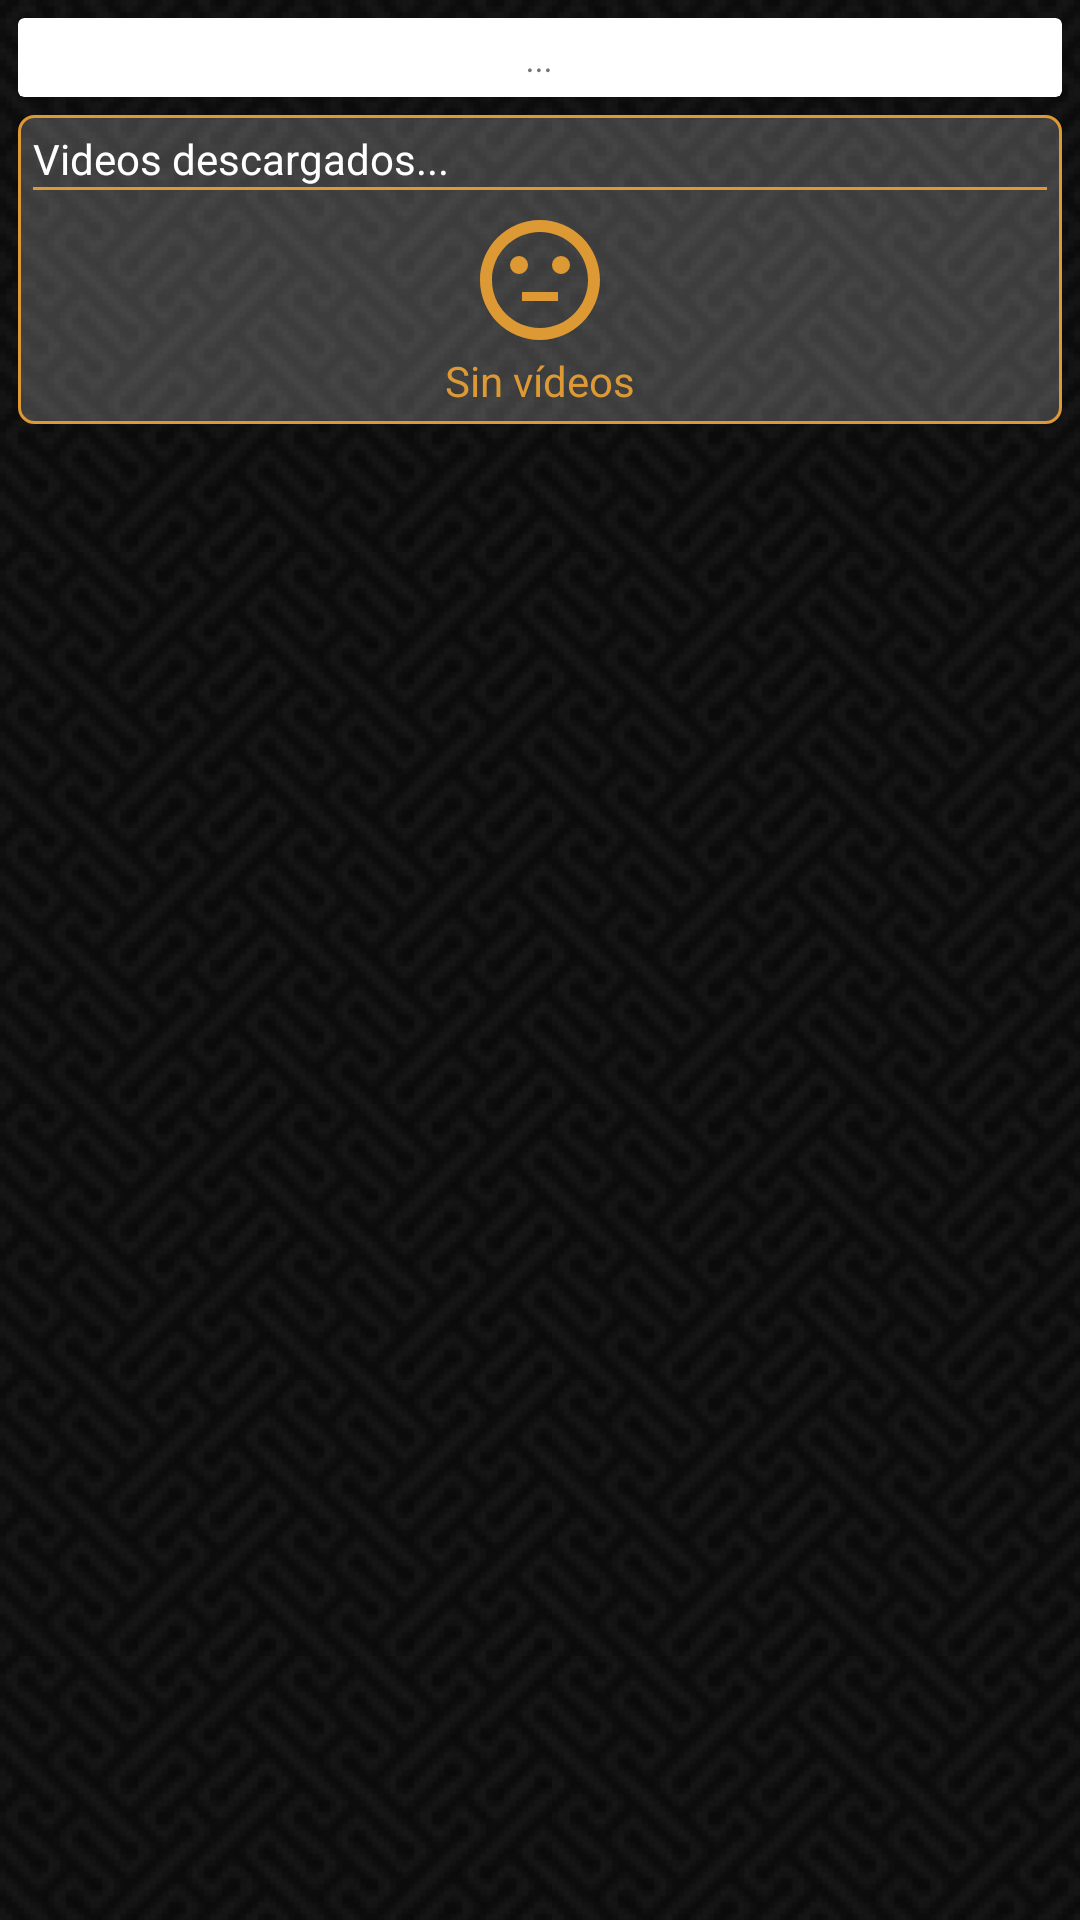

Point at icon controls on the screen. Image size 1080x1920, points as (x=x, y=y).
sentiment neutral: (x=540, y=280)
